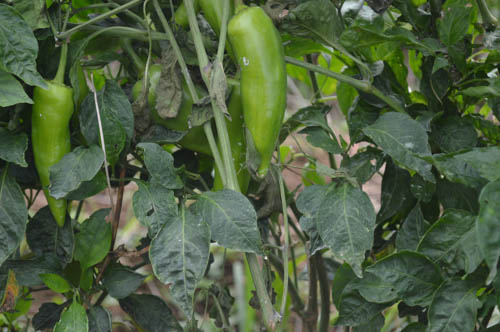ChiliPepper: (230, 9, 280, 176), (28, 84, 75, 226), (139, 65, 212, 154), (213, 80, 248, 200)
